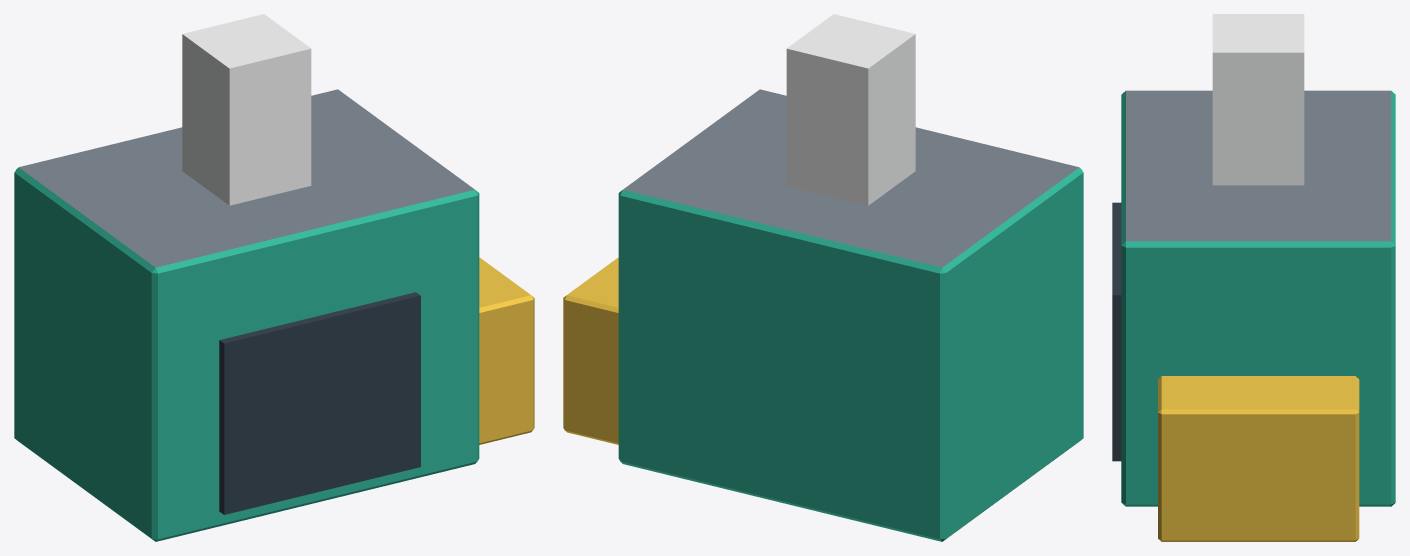
Rendered from baler.fbx.
3 views of the same model, side by side, from view 1: azimuth 30°, elevation 25°; view 2: azimuth 150°, elevation 25°; view 3: azimuth 270°, elevation 25° (orthographic). The views are drawn at different scales.
Visible parts, largest first — view 1: baler; view 2: baler; view 3: baler.
Part boxes in pixels (bbox=[...]): baler: bbox=[14, 14, 534, 541]; baler: bbox=[563, 14, 1083, 541]; baler: bbox=[1112, 14, 1395, 541].
Bounding box in the file's own units: 4.9 × 4.8 × 3.1.
